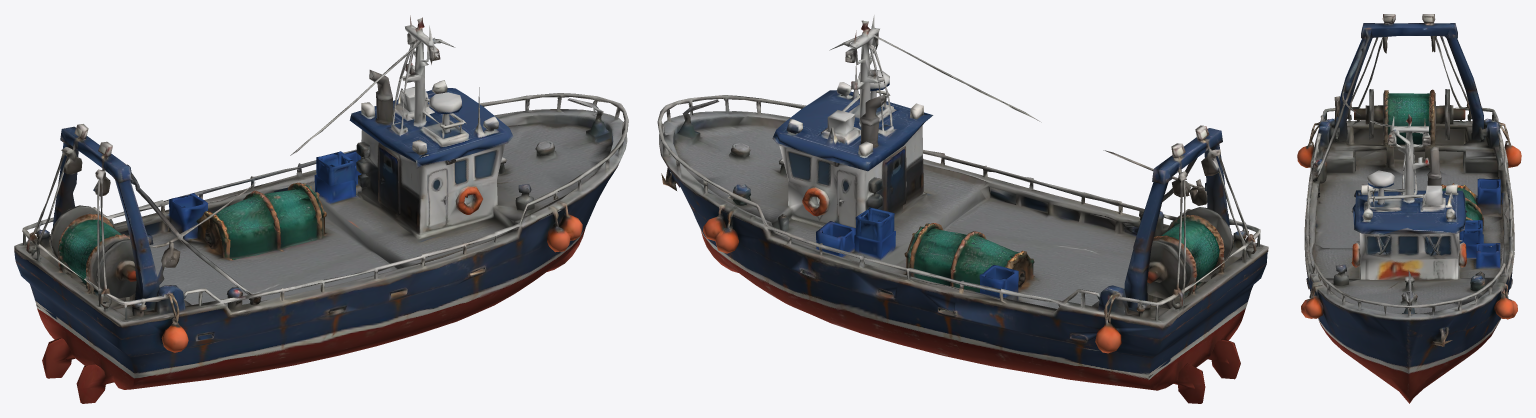
The model's file is boat-trawler.glb.
The picture shows the model from 3 angles, left to right: view 1: azimuth 30°, elevation 25°; view 2: azimuth 150°, elevation 25°; view 3: azimuth 270°, elevation 25°; orthographic projection. The views are drawn at different scales.
Visible parts, largest first — view 1: tripo_node_9f653b24-ef0c-44ae-9744-f3341b745e63; view 2: tripo_node_9f653b24-ef0c-44ae-9744-f3341b745e63; view 3: tripo_node_9f653b24-ef0c-44ae-9744-f3341b745e63.
Boxes of the visible parts, bbox=[...] form: tripo_node_9f653b24-ef0c-44ae-9744-f3341b745e63: bbox=[14, 15, 628, 403]; tripo_node_9f653b24-ef0c-44ae-9744-f3341b745e63: bbox=[657, 15, 1268, 403]; tripo_node_9f653b24-ef0c-44ae-9744-f3341b745e63: bbox=[1297, 14, 1521, 403].
Bounding box in the file's own units: 1 × 0.4892 × 0.4191.
Materials: 1 (1 with a texture image).
